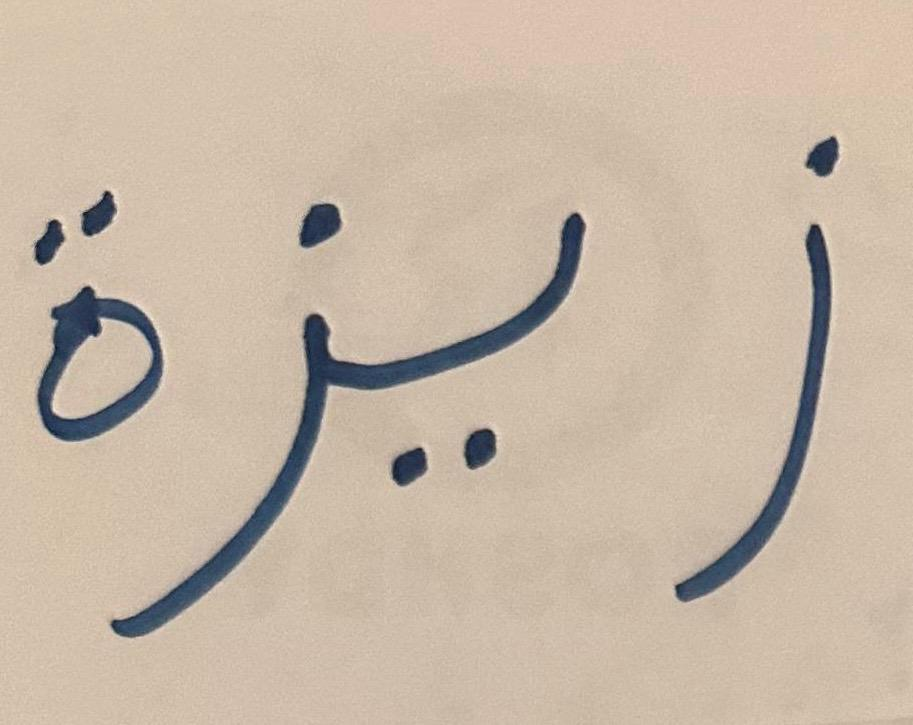hamza: (623, 79, 889, 671), (180, 120, 355, 636)
thal: (6, 143, 177, 540)
zah: (361, 95, 616, 555)
